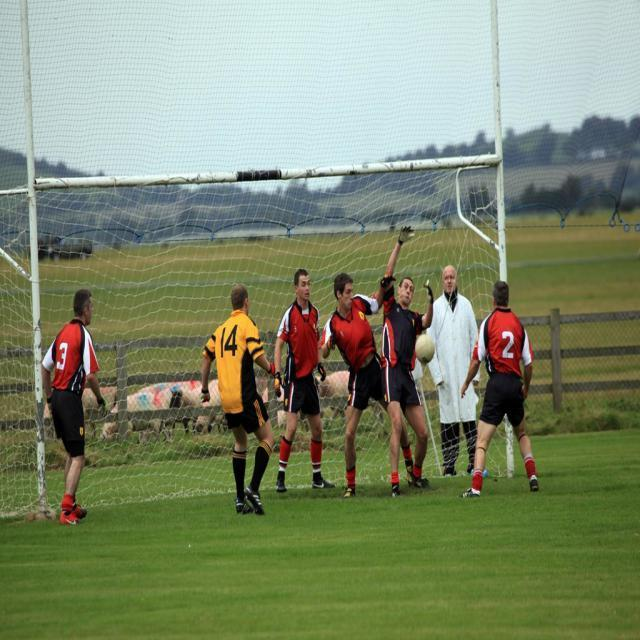football: (400, 336, 448, 363)
